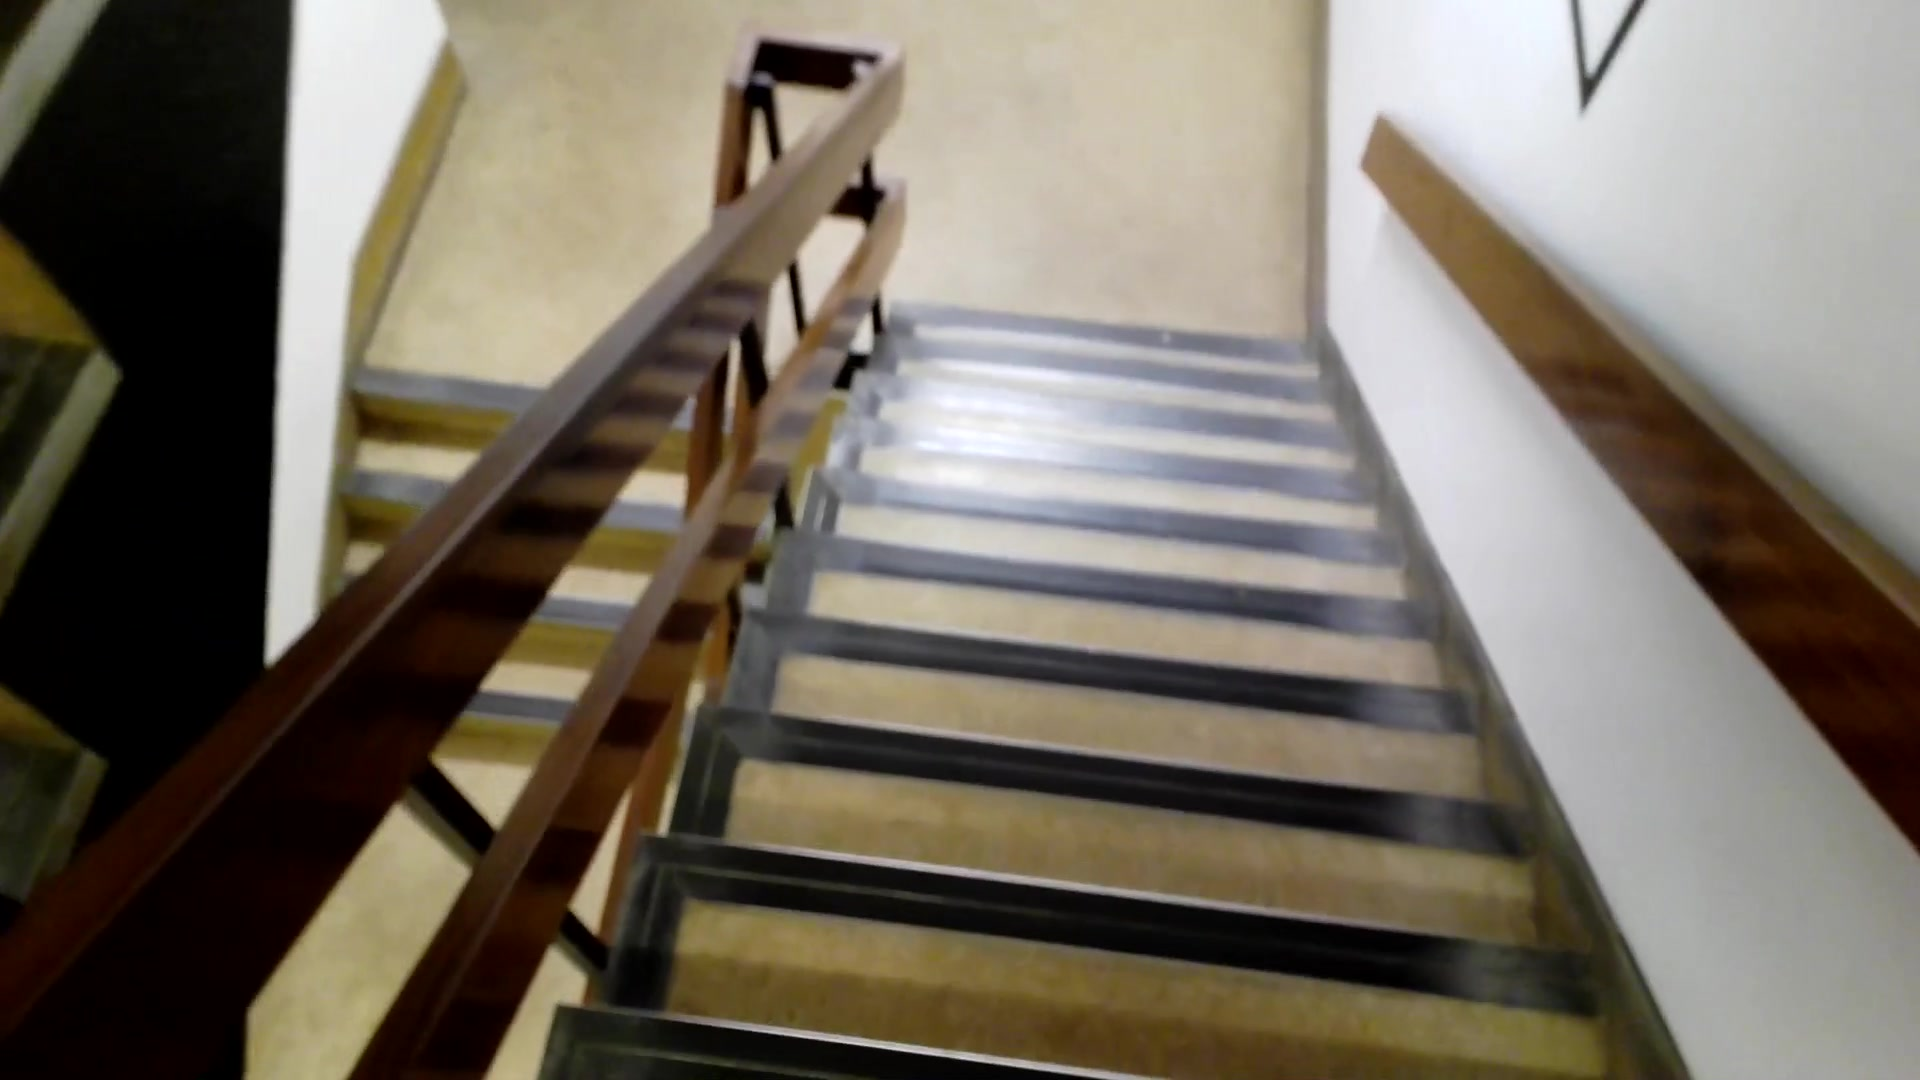Stairs: (708, 266, 1648, 1080)
